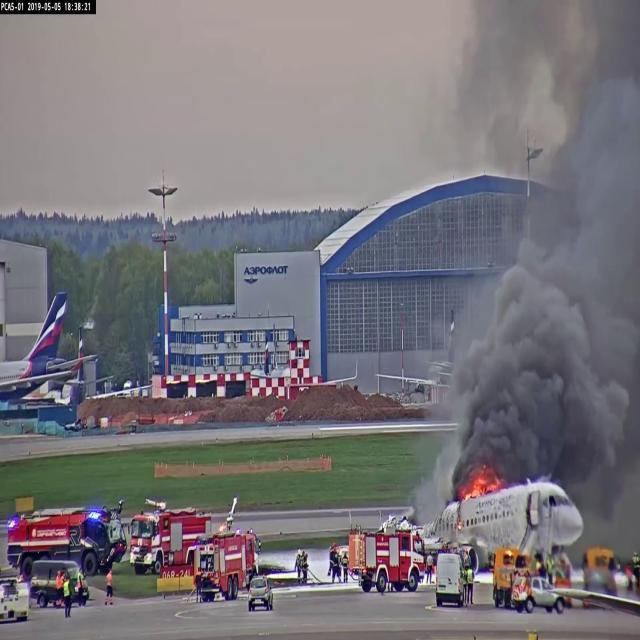Fire: (467, 475, 499, 507)
Smoke: (480, 281, 622, 482)
